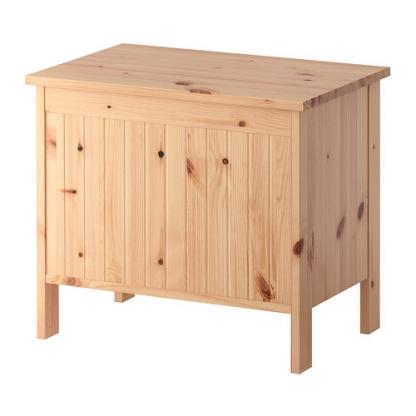Cabinet: (24, 39, 394, 373)
